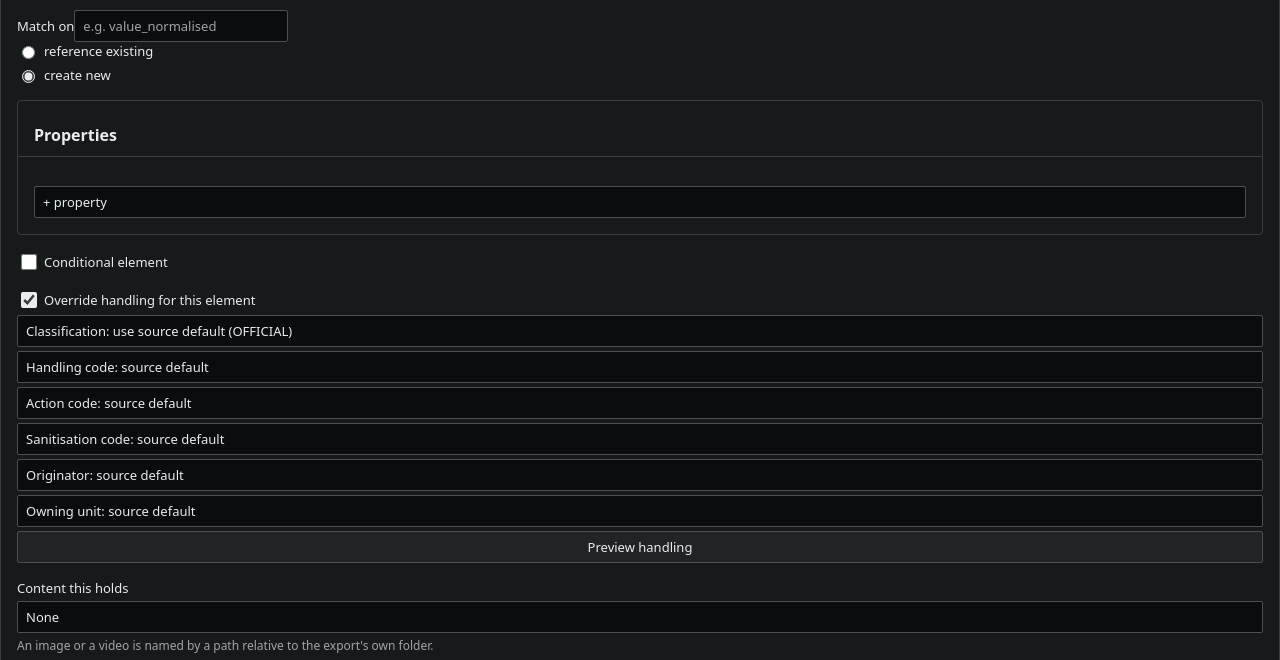
ElementInspector: the preview of a bound part › gives the server's value for a part that is not bound
The image size is (1280, 660).
(page scrolled)
Click the button "Preview handling" at point(640, 547), box [17, 531, 1263, 563]
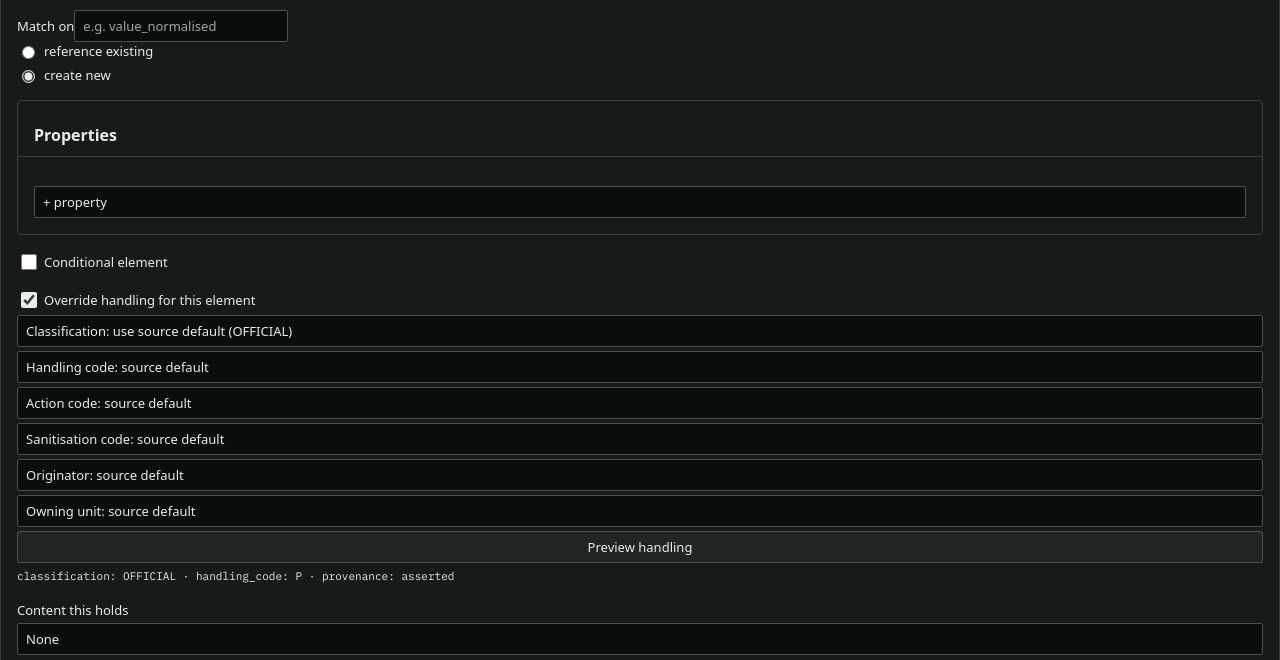
Now the text "handling_code: P" shows "classification: OFFICIAL", box [17, 569, 454, 583]
